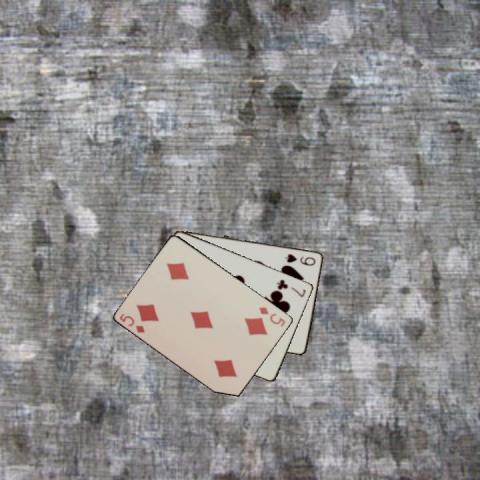5d: (256, 304, 287, 329), (117, 310, 146, 335)
7c: (274, 277, 307, 298)
9s: (282, 250, 317, 267)
